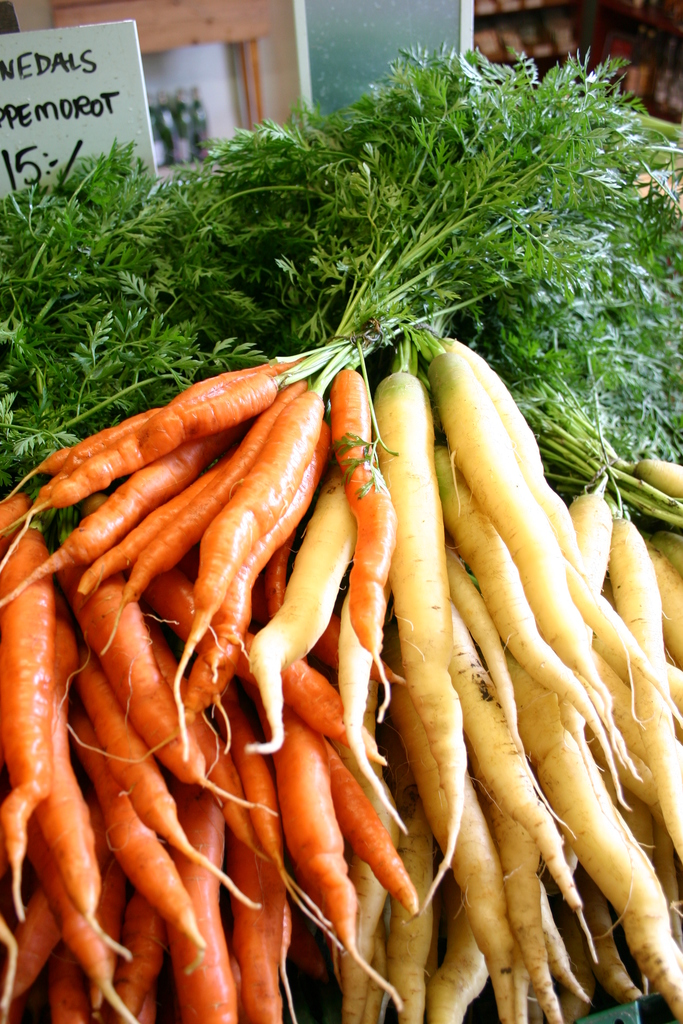Carrot: (1, 39, 683, 1024)
